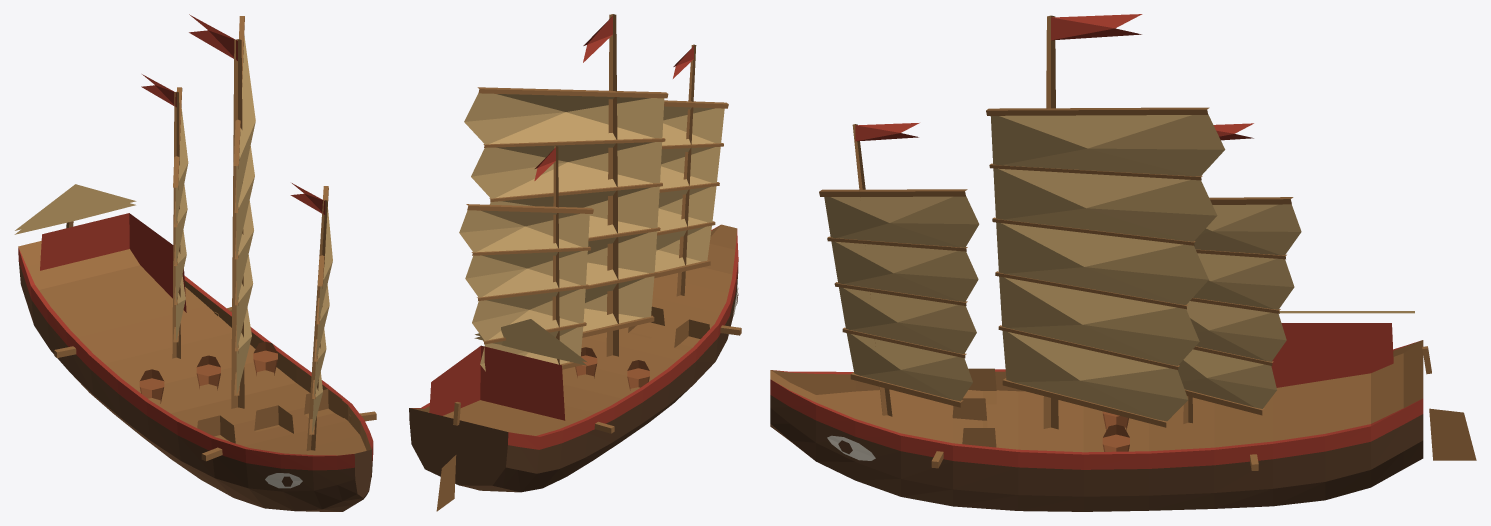
File: ship_great_junk.glb
3 views of the same model, side by side, from view 1: azimuth 30°, elevation 25°; view 2: azimuth 150°, elevation 25°; view 3: azimuth 270°, elevation 25° (orthographic). The views are drawn at different scales.
Visible parts, largest first — view 1: ship_great_junk; view 2: ship_great_junk; view 3: ship_great_junk.
Boxes of the visible parts, left/top/right/bottom form: ship_great_junk: left=14, top=14, right=376, bottom=511; ship_great_junk: left=409, top=14, right=741, bottom=511; ship_great_junk: left=770, top=14, right=1476, bottom=511.
Bounding box in the file's own units: 5.97 × 13.26 × 17.85.
